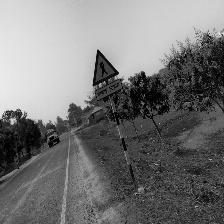Market-in-front: (91, 49, 123, 103)
